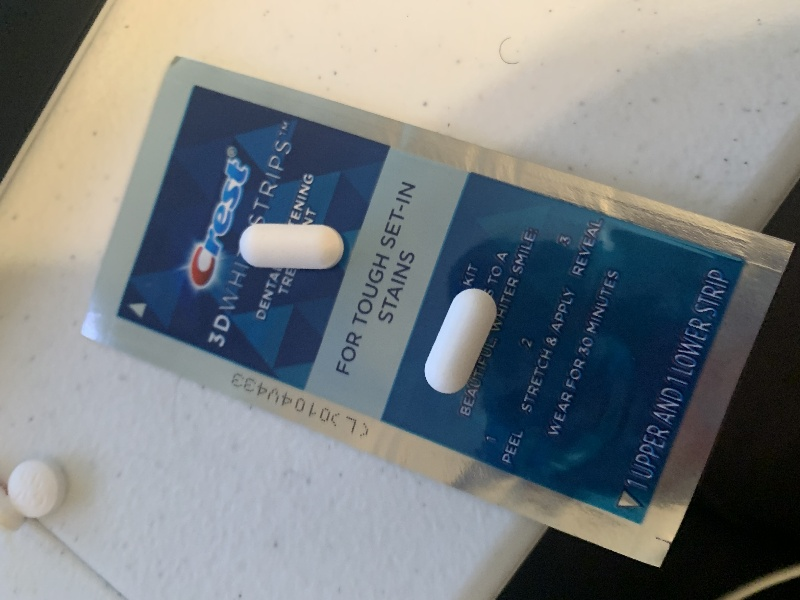Aspirin: (6, 449, 72, 523)
Tylenol: (421, 281, 502, 400), (235, 219, 350, 274)
